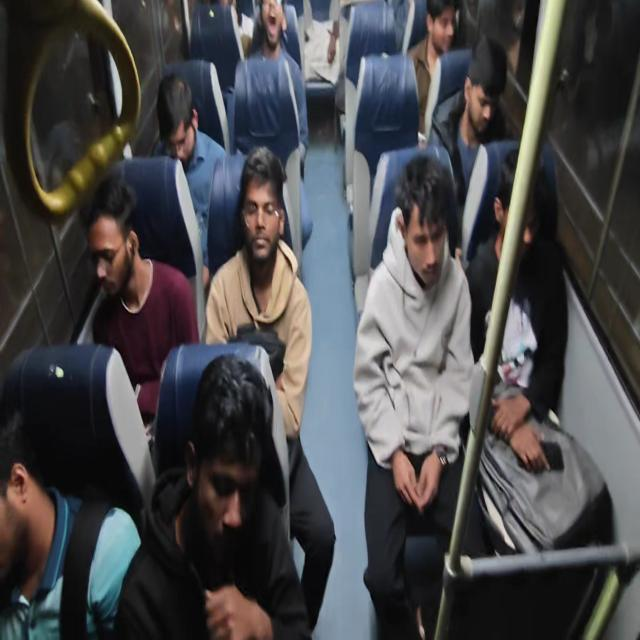person: (204, 145, 336, 632), (353, 152, 475, 638), (113, 353, 313, 639), (464, 149, 568, 475), (0, 408, 142, 638), (80, 174, 200, 431), (233, 1, 312, 248), (151, 72, 227, 286), (427, 34, 509, 206), (406, 0, 457, 142), (298, 0, 340, 85)
